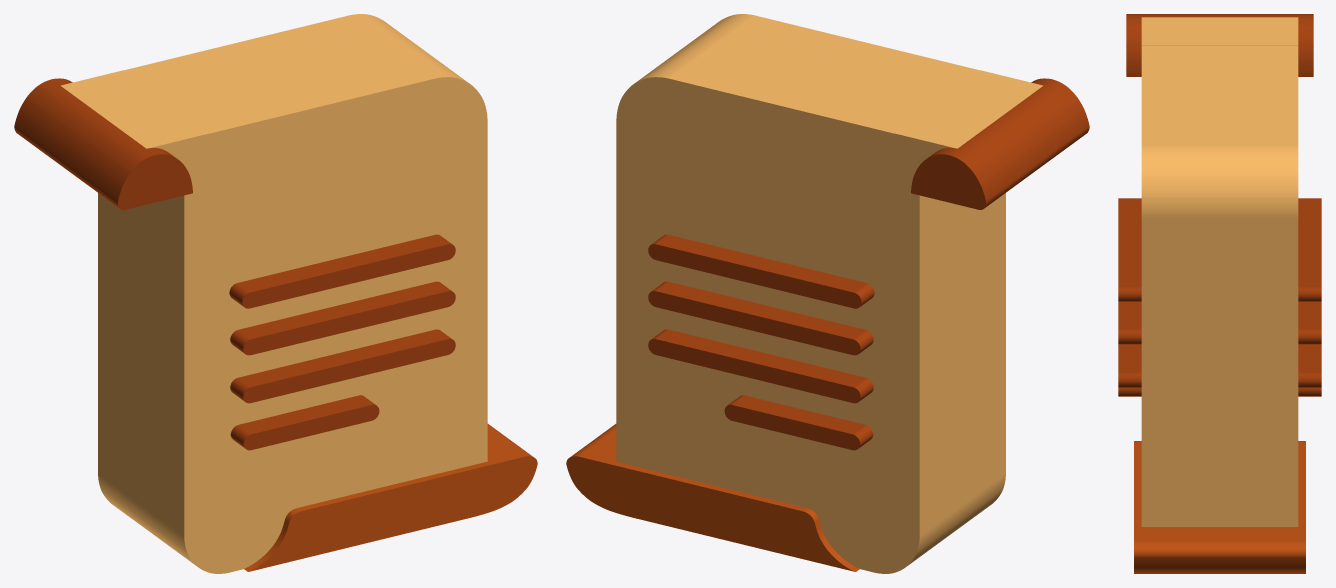
3 views of the same model, side by side, from view 1: azimuth 30°, elevation 25°; view 2: azimuth 150°, elevation 25°; view 3: azimuth 270°, elevation 25° (orthographic). The views are drawn at different scales.
Parts seen in each view (by area): view 1: U+1F4DC_layer00_obj00, U+1F4DC_layer03_obj00, U+1F4DC_layer01_obj00, U+1F4DC_layer02_obj00; view 2: U+1F4DC_layer00_obj00, U+1F4DC_layer03_obj00, U+1F4DC_layer01_obj00, U+1F4DC_layer02_obj00; view 3: U+1F4DC_layer00_obj00, U+1F4DC_layer03_obj00, U+1F4DC_layer01_obj00, U+1F4DC_layer02_obj00.
Part boxes in pixels (<box>): U+1F4DC_layer00_obj00: <box>61,14,487,573</box>; U+1F4DC_layer03_obj00: <box>229,234,455,450</box>; U+1F4DC_layer01_obj00: <box>244,424,537,571</box>; U+1F4DC_layer02_obj00: <box>14,78,192,209</box>; U+1F4DC_layer00_obj00: <box>616,14,1042,573</box>; U+1F4DC_layer03_obj00: <box>648,234,874,450</box>; U+1F4DC_layer01_obj00: <box>566,424,859,571</box>; U+1F4DC_layer02_obj00: <box>911,78,1089,209</box>; U+1F4DC_layer00_obj00: <box>1141,17,1298,526</box>; U+1F4DC_layer03_obj00: <box>1118,198,1321,396</box>; U+1F4DC_layer01_obj00: <box>1134,441,1305,573</box>; U+1F4DC_layer02_obj00: <box>1126,14,1313,76</box>.
Size of the model in its own units: 0.5676 by 0.568 by 0.26.
